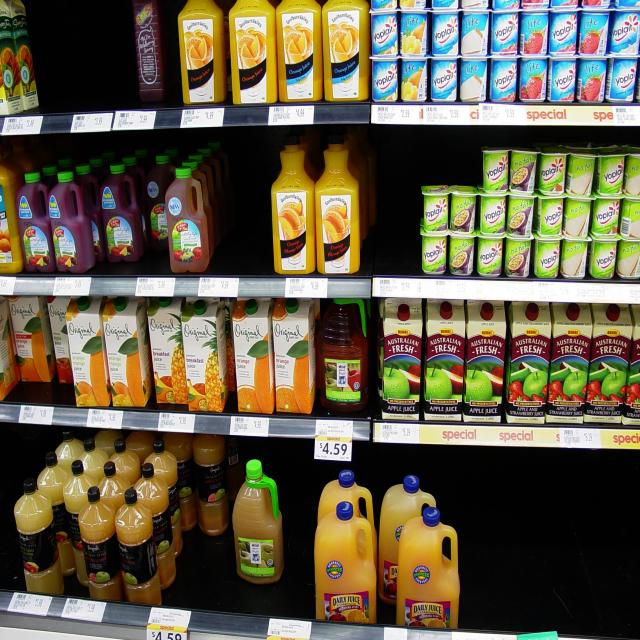empty_space: (463, 458, 639, 631), (43, 15, 137, 111), (379, 179, 421, 273), (229, 176, 269, 274), (286, 507, 314, 615)
